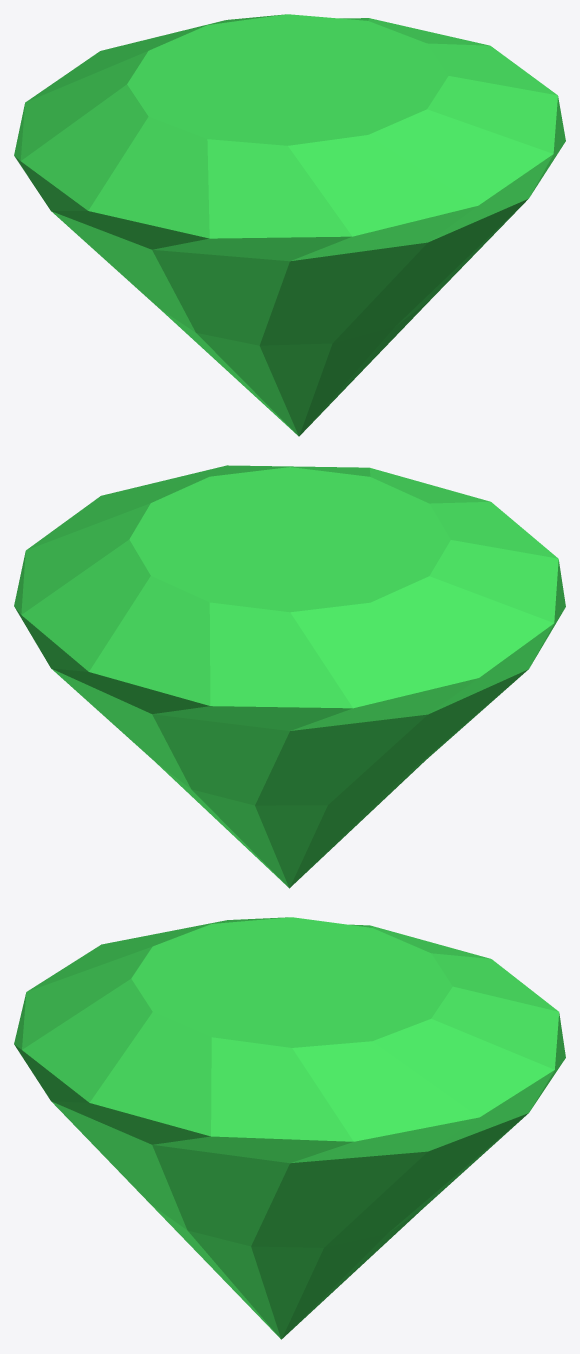
Rendered from Brilliant_Emerald.fbx.
3 renders of one model, top to bottom at view 1: azimuth 30°, elevation 25°; view 2: azimuth 150°, elevation 25°; view 3: azimuth 270°, elevation 25°, orthographic.
Parts seen in each view (by area): view 1: BrilliantCut; view 2: BrilliantCut; view 3: BrilliantCut.
Boxes of the visible parts, x1,y1,x2,y2 form: BrilliantCut: [14, 14, 565, 436]; BrilliantCut: [14, 465, 565, 888]; BrilliantCut: [14, 917, 565, 1339].
Bounding box in the file's own units: 79.44 × 57 × 79.42.
